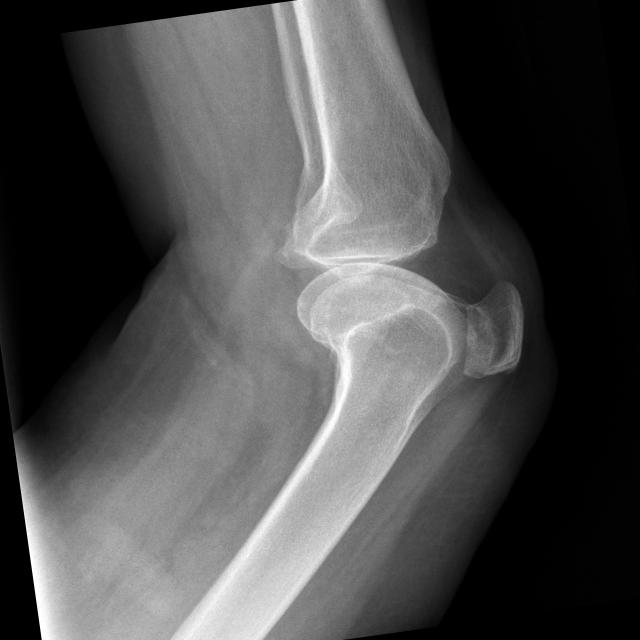Knee: (279, 162, 536, 412)
